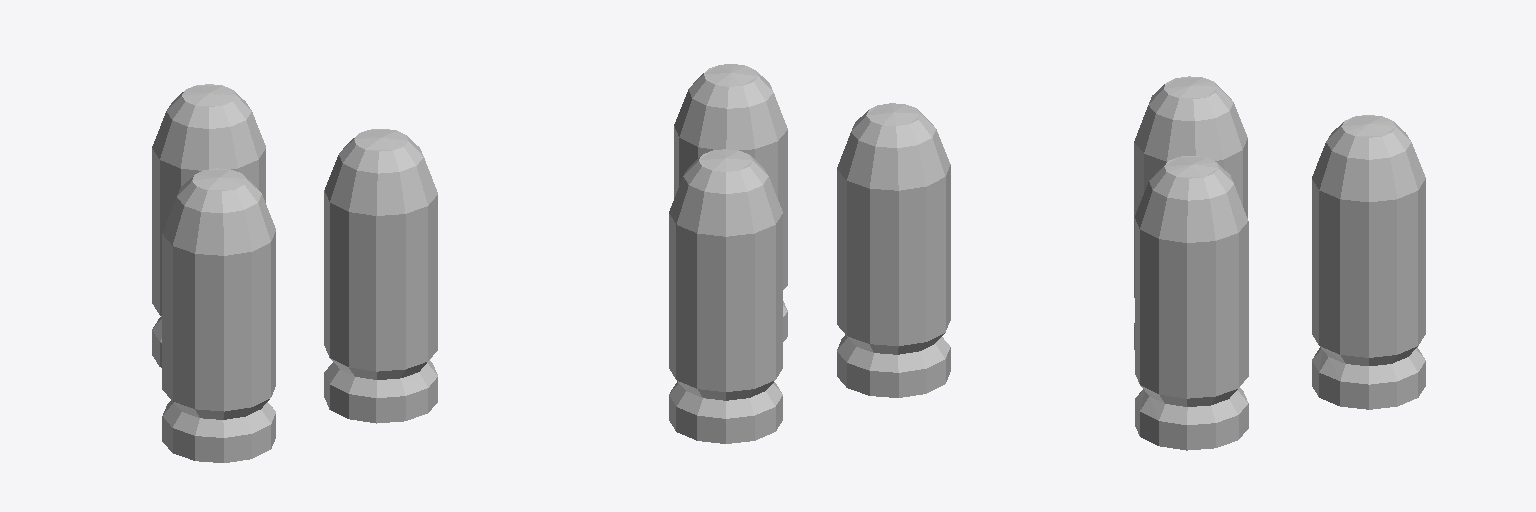
Rendered from 3bullets.obj.
The picture shows the model from 3 angles: view 1: azimuth 30°, elevation 25°; view 2: azimuth 150°, elevation 25°; view 3: azimuth 270°, elevation 25°; orthographic projection.
Visible parts, largest first — view 1: bulletMesh; view 2: bulletMesh; view 3: bulletMesh.
Part boxes in pixels (x1,y1,x2,y2): bulletMesh: (152, 84, 437, 462); bulletMesh: (669, 64, 950, 443); bulletMesh: (1134, 76, 1425, 450).
Size of the model in its own units: 1.05 by 1.01 by 1.02.